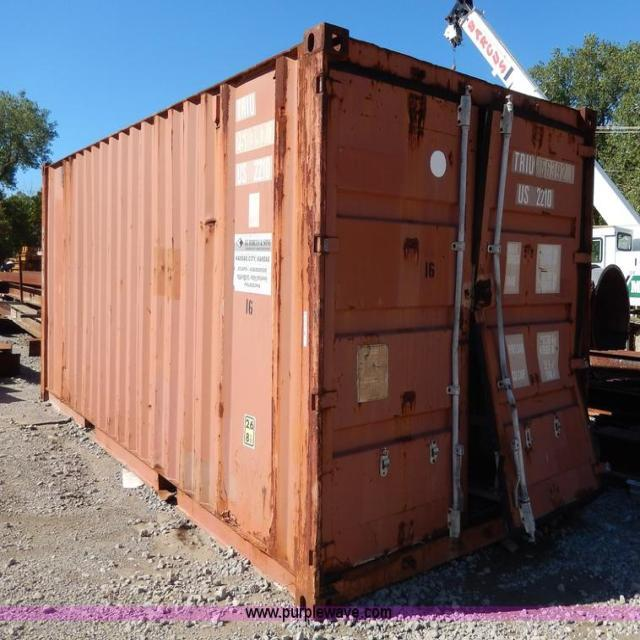hole: (441, 77, 556, 561)
rust: (267, 50, 325, 422), (401, 55, 434, 151), (389, 500, 423, 571), (203, 366, 236, 436), (394, 222, 427, 270), (393, 381, 423, 428), (196, 207, 228, 247)
